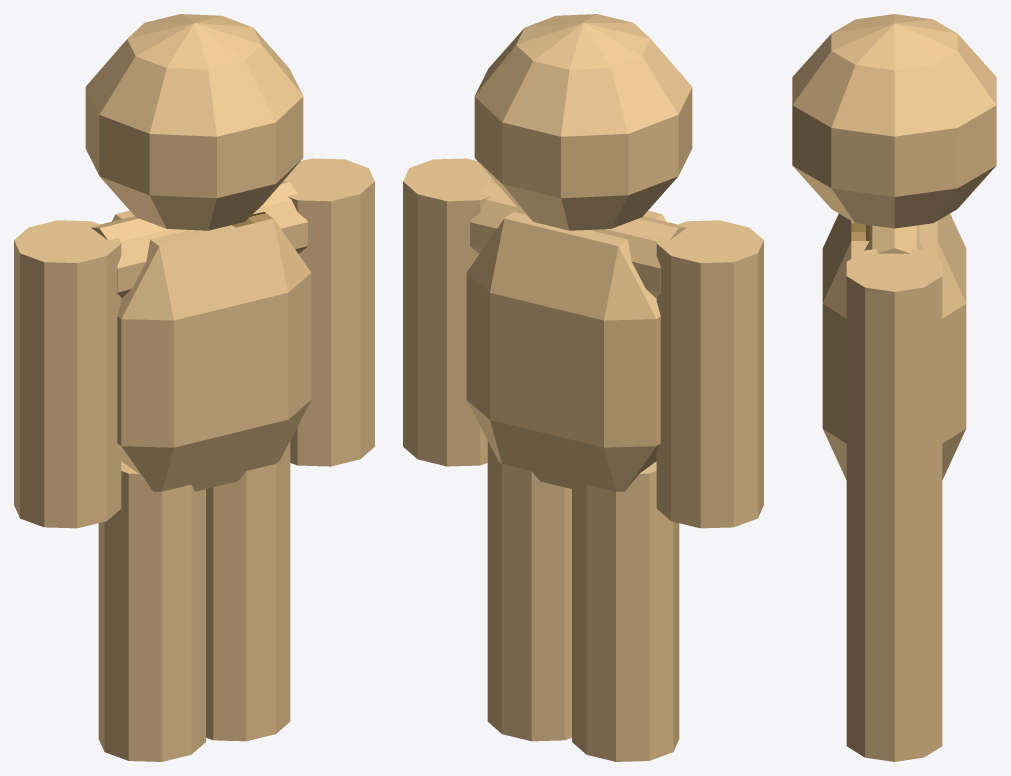
File: person.glb
3 renders of one model, left to right at view 1: azimuth 30°, elevation 25°; view 2: azimuth 150°, elevation 25°; view 3: azimuth 270°, elevation 25°, orthographic.
Visible parts, largest first — view 1: beveled_cuboid_3, sphere_0, tube_5, tube_7, tube_6, tube_8, tube_4, circle_2, circle_1; view 2: beveled_cuboid_3, sphere_0, tube_5, tube_7, tube_6, tube_8, tube_4, circle_2, circle_1; view 3: sphere_0, tube_8, tube_6, beveled_cuboid_3, circle_1, tube_4.
Part boxes in pixels (<box>): beveled_cuboid_3: <box>112,210,311,491</box>; sphere_0: <box>85,14,303,230</box>; tube_5: <box>14,220,121,528</box>; tube_7: <box>98,461,205,761</box>; tube_6: <box>206,441,290,741</box>; tube_8: <box>283,158,374,466</box>; tube_4: <box>91,181,307,298</box>; circle_2: <box>14,220,121,262</box>; circle_1: <box>283,158,374,201</box>; beveled_cuboid_3: <box>466,210,665,491</box>; sphere_0: <box>474,14,692,230</box>; tube_5: <box>656,220,763,528</box>; tube_7: <box>572,461,679,761</box>; tube_6: <box>487,441,571,741</box>; tube_8: <box>403,158,489,466</box>; tube_4: <box>470,181,686,298</box>; circle_2: <box>656,220,763,262</box>; circle_1: <box>403,158,494,201</box>; sphere_0: <box>792,14,996,228</box>; tube_8: <box>846,249,942,552</box>; tube_6: <box>846,537,942,761</box>; beveled_cuboid_3: <box>822,213,966,479</box>; circle_1: <box>846,248,942,291</box>; tube_4: <box>864,225,924,253</box>.
Size of the model in its own units: 1.03 by 2 by 0.5319.
Materials: 1 (1 with a texture image).
